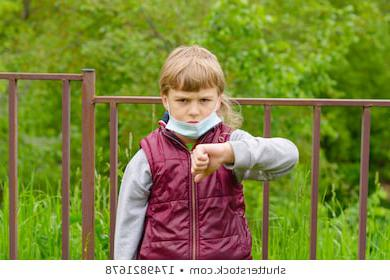mask_weared_incorrect: (167, 91, 218, 135)
